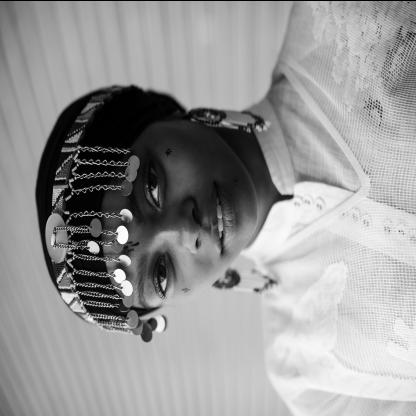Eye: (144, 152, 166, 214), (153, 250, 173, 300)
Mouth: (208, 176, 239, 257)
Nose: (163, 199, 203, 252)
